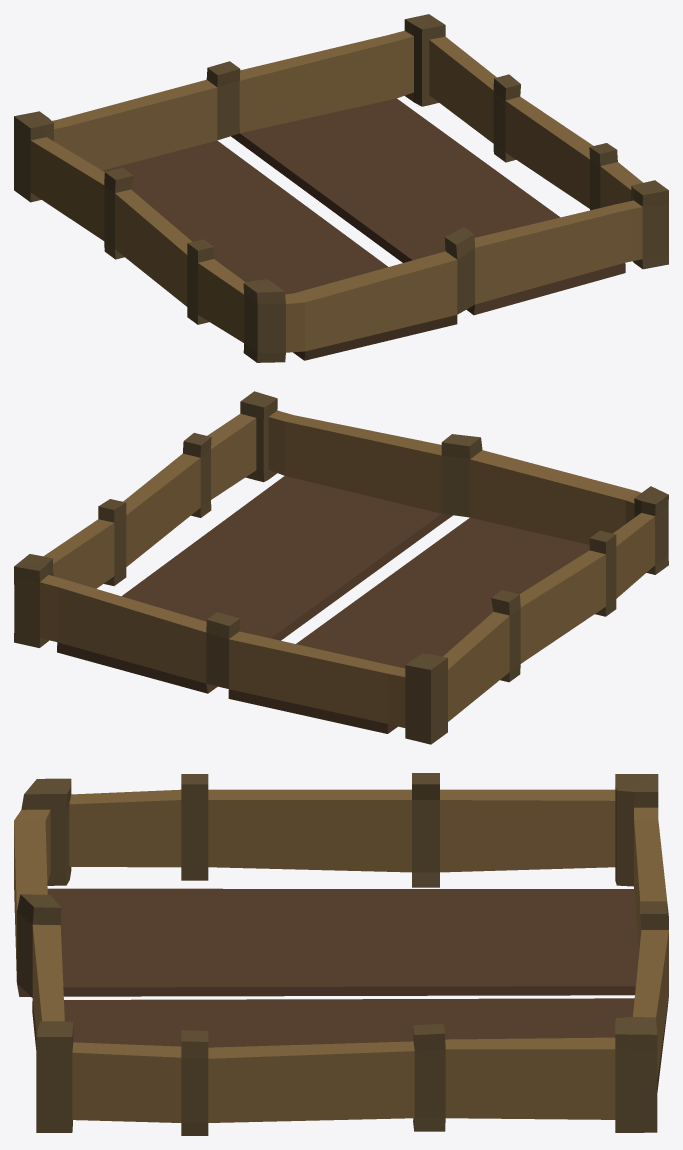
The model's file is PlainFarm.fbx.
3 renders of one model, top to bottom at view 1: azimuth 30°, elevation 25°; view 2: azimuth 150°, elevation 25°; view 3: azimuth 270°, elevation 25°, orthographic. The views are drawn at different scales.
Visible parts, largest first — view 1: PlainAnanasFarm3.1; view 2: PlainAnanasFarm3.1; view 3: PlainAnanasFarm3.1.
Boxes of the visible parts, box(x1,y1,x2,y2) form: PlainAnanasFarm3.1: box(14, 14, 668, 362); PlainAnanasFarm3.1: box(14, 391, 668, 744); PlainAnanasFarm3.1: box(14, 773, 668, 1135).
Bounding box in the file's own units: 202 × 37.02 × 211.
